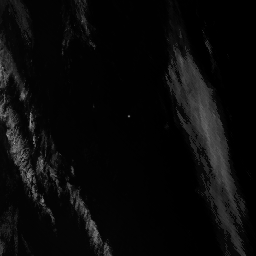Target: (127, 114, 131, 118)
